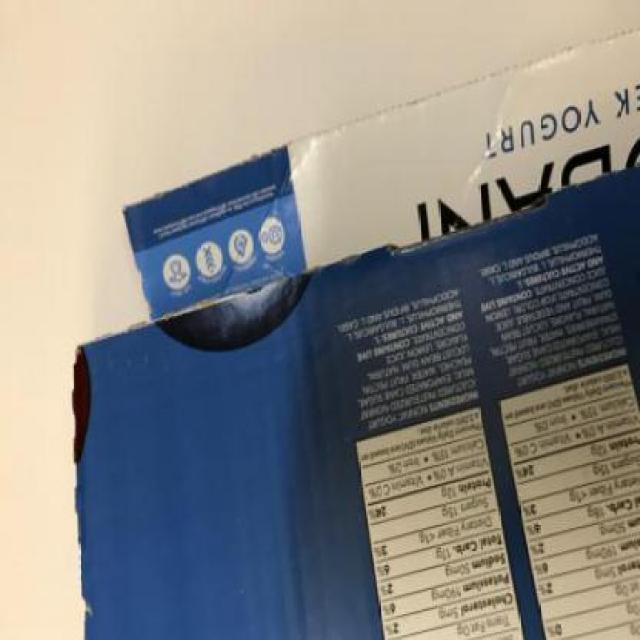box: (67, 24, 638, 640)
